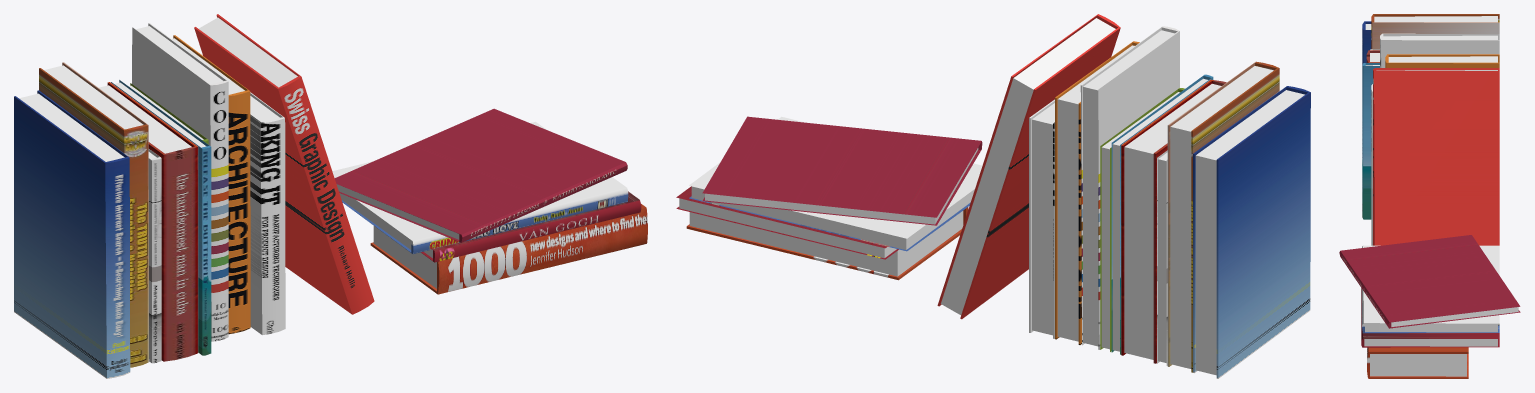
The model's file is books 2.FBX.
3 renders of one model, left to right at view 1: azimuth 30°, elevation 25°; view 2: azimuth 150°, elevation 25°; view 3: azimuth 270°, elevation 25°, orthographic. The views are drawn at different scales.
Parts seen in each view (by area): view 1: books 2; view 2: books 2; view 3: books 2.
Part boxes in pixels (x1,y1,x2,y2): books 2: (14,14,647,378); books 2: (676,14,1310,378); books 2: (1339,14,1520,378).
Size of the model in its own units: 61.76 by 28.1 by 23.98.
Materials: 1 (1 with a texture image).
